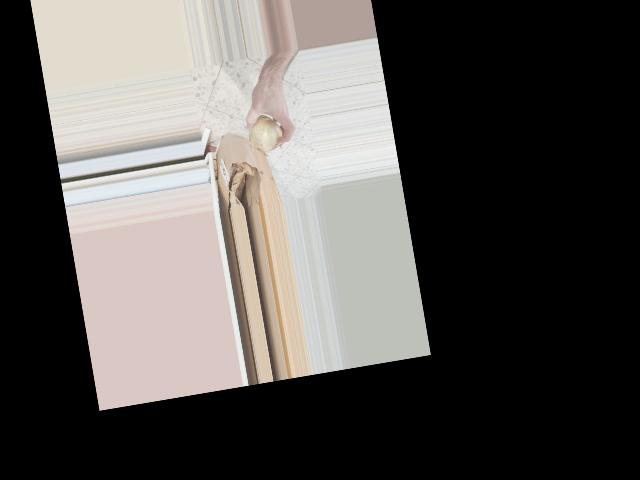onion: (243, 112, 287, 158)
